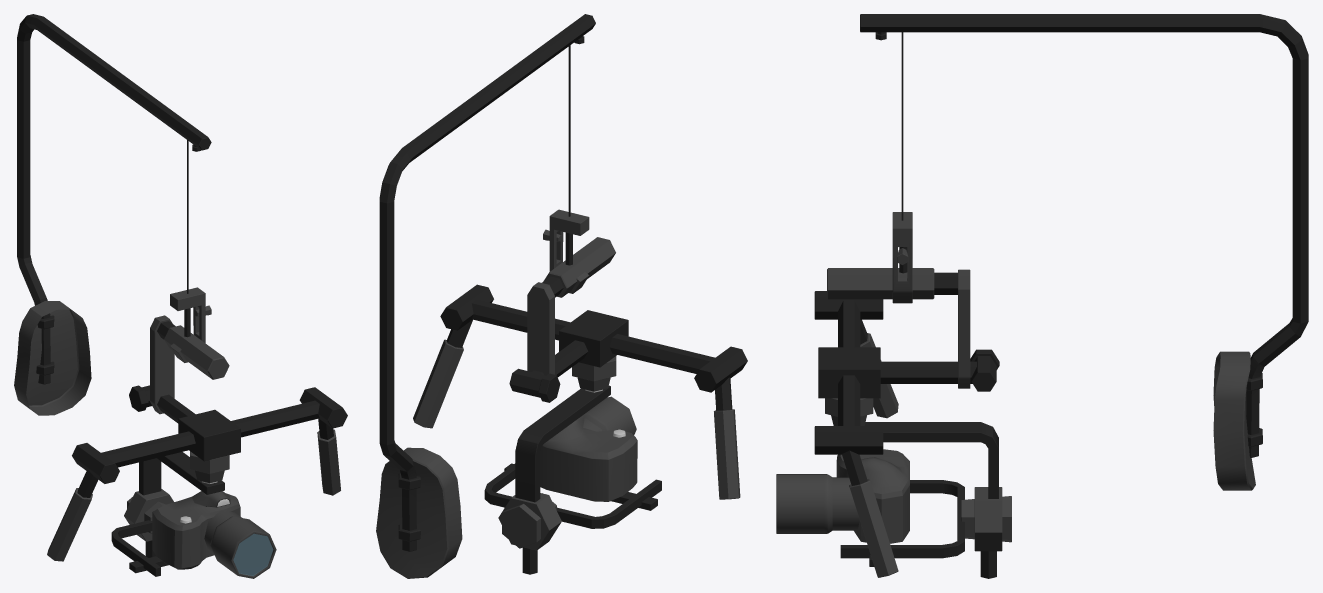
File: Backpack_007.glb
3 renders of one model, left to right at view 1: azimuth 30°, elevation 25°; view 2: azimuth 150°, elevation 25°; view 3: azimuth 270°, elevation 25°, orthographic. The views are drawn at different scales.
Parts seen in each view (by area): view 1: Backpack_007; view 2: Backpack_007; view 3: Backpack_007.
Part boxes in pixels (left/top/right/bottom): Backpack_007: left=14, top=14, right=347, bottom=578; Backpack_007: left=376, top=14, right=747, bottom=578; Backpack_007: left=776, top=14, right=1308, bottom=578.
Bounding box in the file's own units: 0.8682 × 1.31 × 1.13.
1 material, 1 textured.
